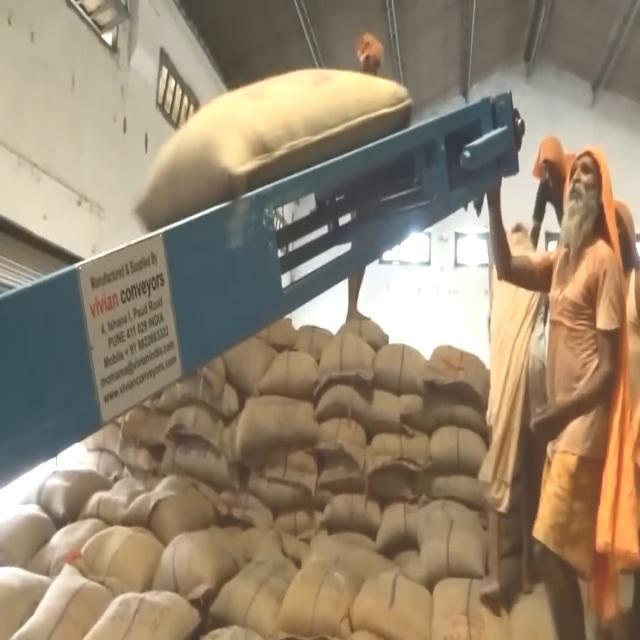gunny_bag: (135, 72, 410, 237)
